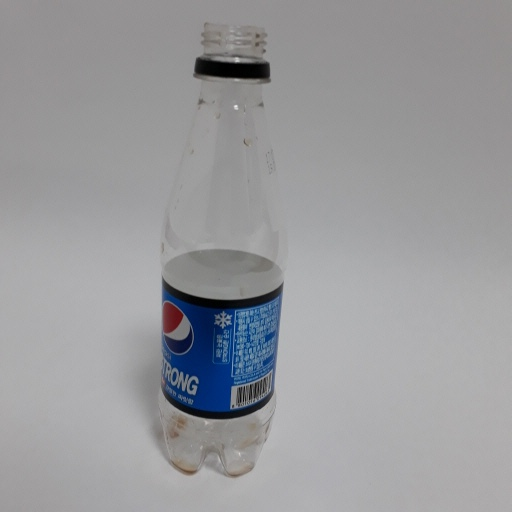Plastic_0: (155, 19, 282, 480)
